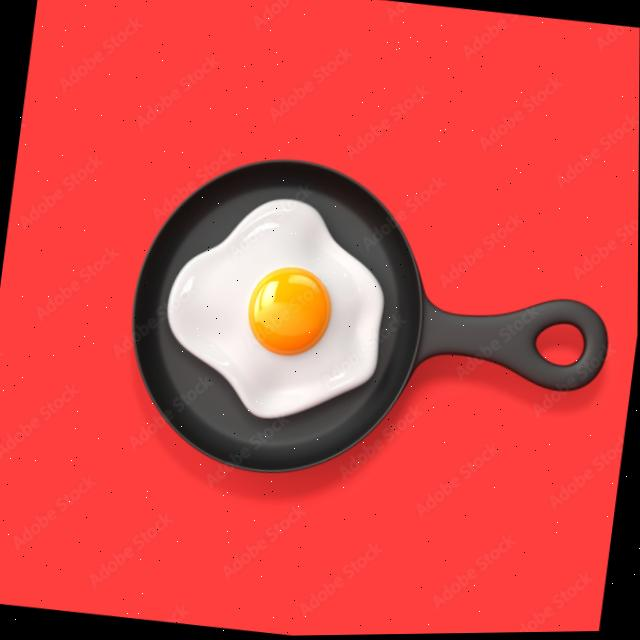Egg: (167, 199, 384, 418)
